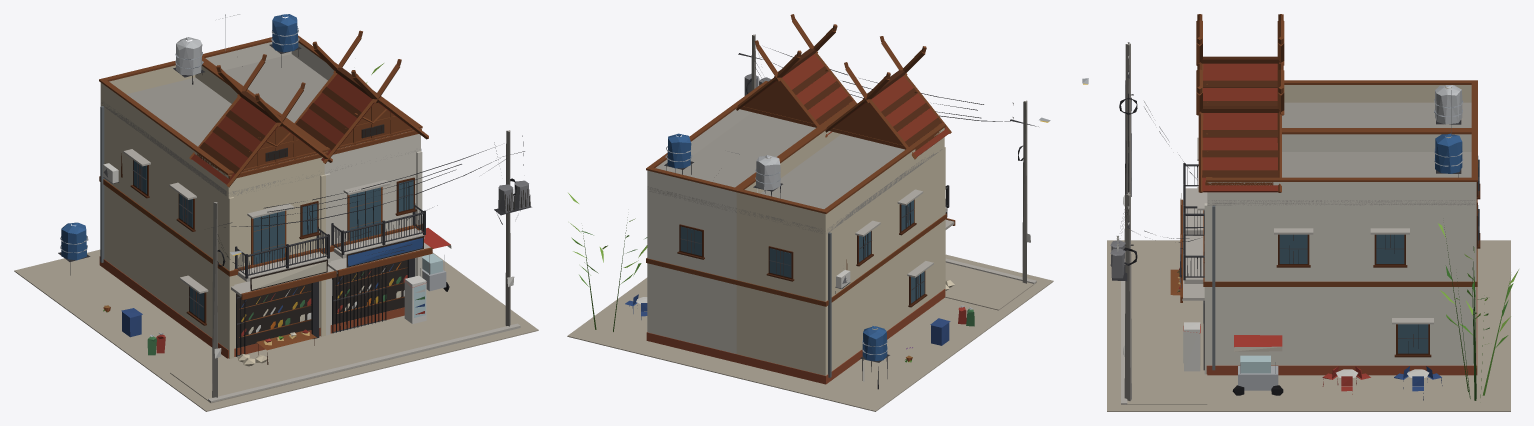
Rendered from shop_2.glb.
3 views of the same model, side by side, from view 1: azimuth 30°, elevation 25°; view 2: azimuth 150°, elevation 25°; view 3: azimuth 270°, elevation 25° (orthographic). The views are drawn at different scales.
Parts seen in each view (by area): view 1: body, windows; view 2: body, windows; view 3: body, windows.
Boxes of the visible parts, x1,y1,x2,y2 form: body: [14, 14, 538, 411]; windows: [133, 124, 413, 347]; body: [567, 14, 1053, 411]; windows: [680, 120, 1049, 303]; body: [1082, 14, 1518, 411]; windows: [1083, 83, 1478, 353].
Size of the model in its own units: 16.81 by 12.21 by 17.22.
